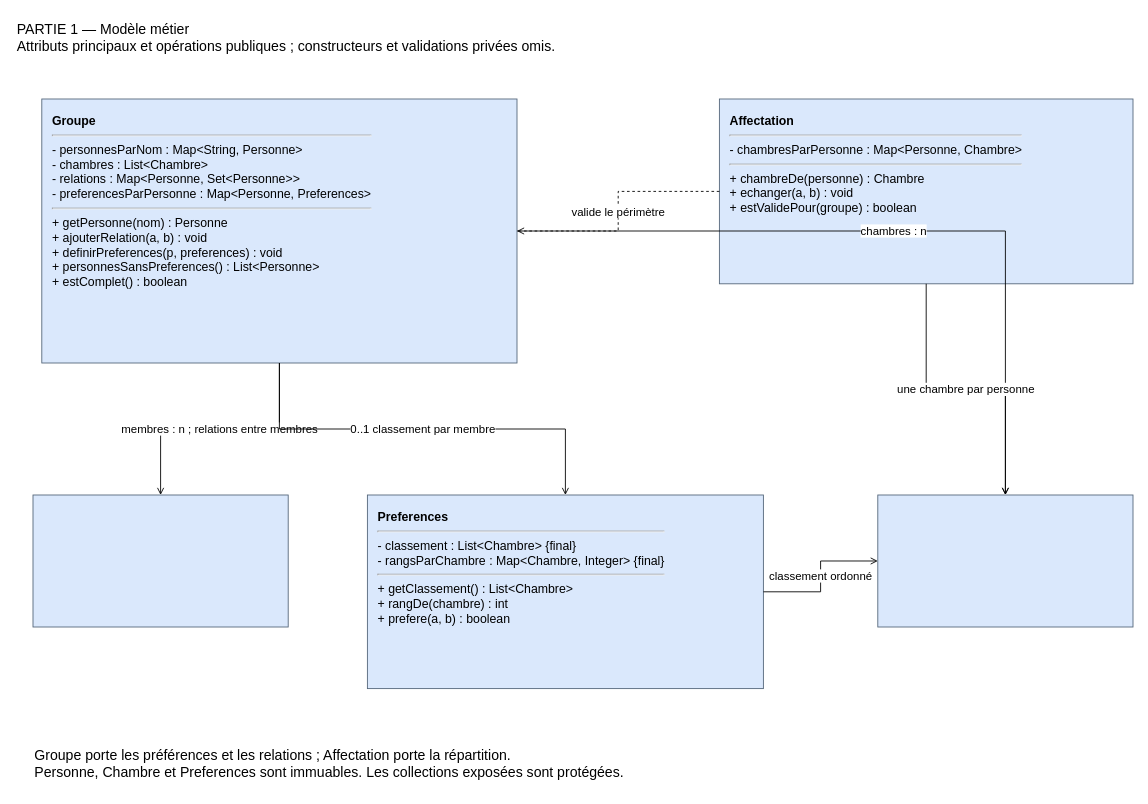
Some shapes in this 1148 by 804 pixel diagram are drawn without their labels. The shapes that lost their labels are listed below. From the top down, each one's centre as x and y in pixels, then its label:
the point at 160,560: Personne - nom : String {final} + getNom() : String
the point at 1005,560: Chambre - numero : int {final} + getNumero() : int
